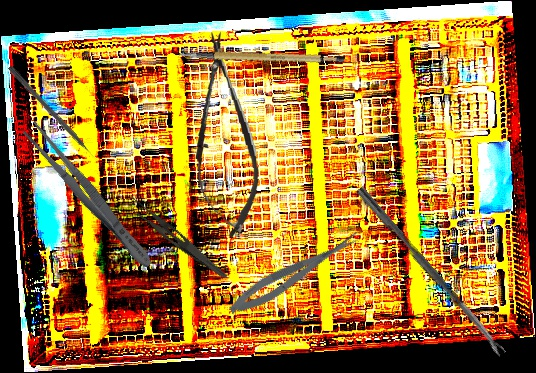Dressing Forceps: (19, 118, 159, 274), (121, 193, 236, 281)
Micro Scissor: (183, 29, 265, 240), (224, 227, 366, 321)
Pusher: (6, 64, 102, 167)
Scalpel Handle: (178, 25, 346, 85)
Surgical Spoon: (354, 186, 507, 358)
